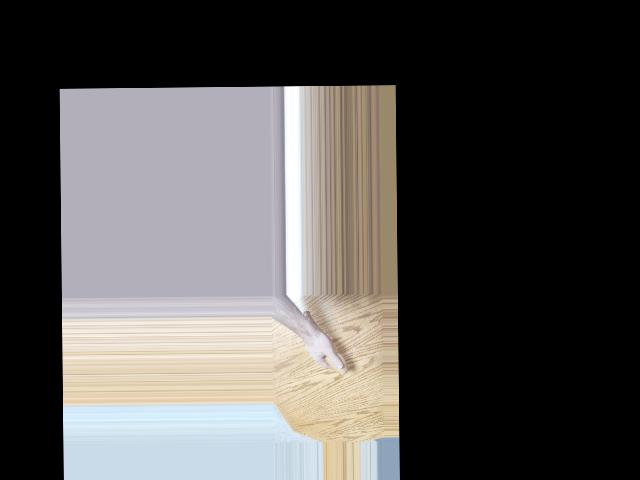sweet_potato: (300, 308, 346, 376)
